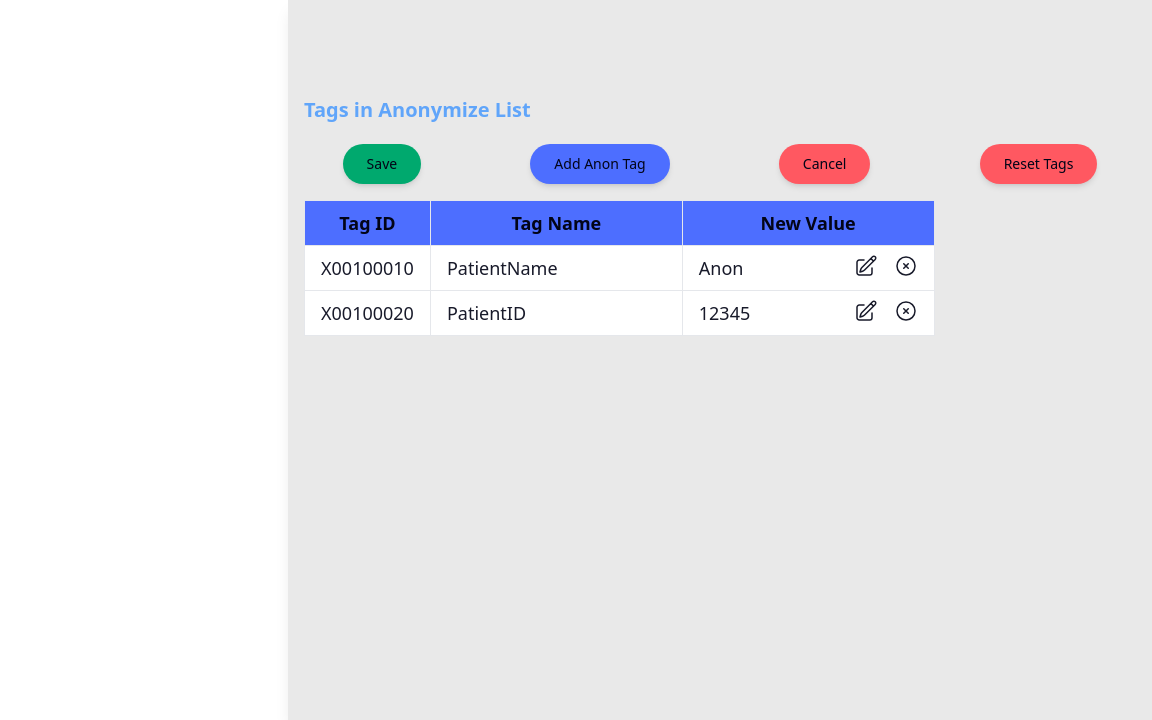
Test: AutoAnonTagsEdit › toggles add tag input row when 'Add Anon Tag' is clicked
The width and height of the screenshot is (1152, 720).
Click the button with test id "AutoAnonAddTag".
click(600, 164)  # box x1=530 y1=144 x2=670 y2=184
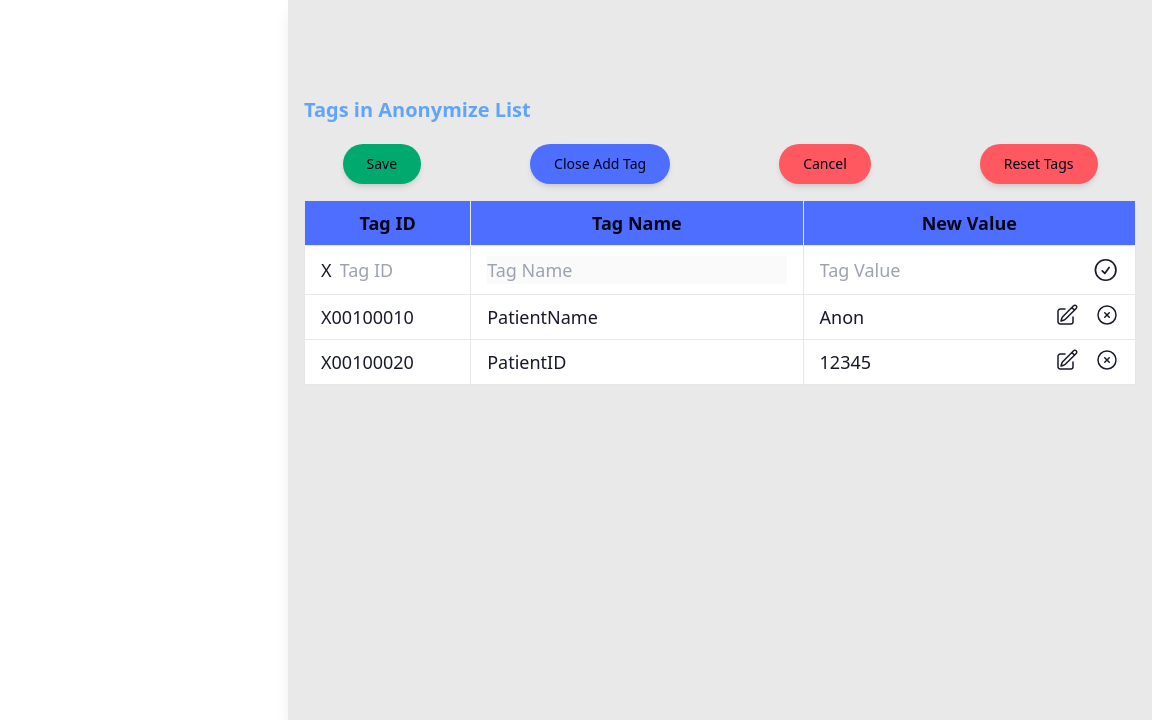
Check: the field with placeholder "Tag ID" is shown, box x1=340 y1=256 x2=454 y2=284
Check: the field with placeholder "Tag Value" is shown, box x1=820 y1=254 x2=1076 y2=286
